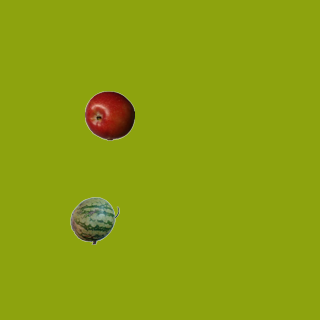Apple Braeburn: (84, 90, 134, 140)
Watermelon: (69, 195, 119, 245)
